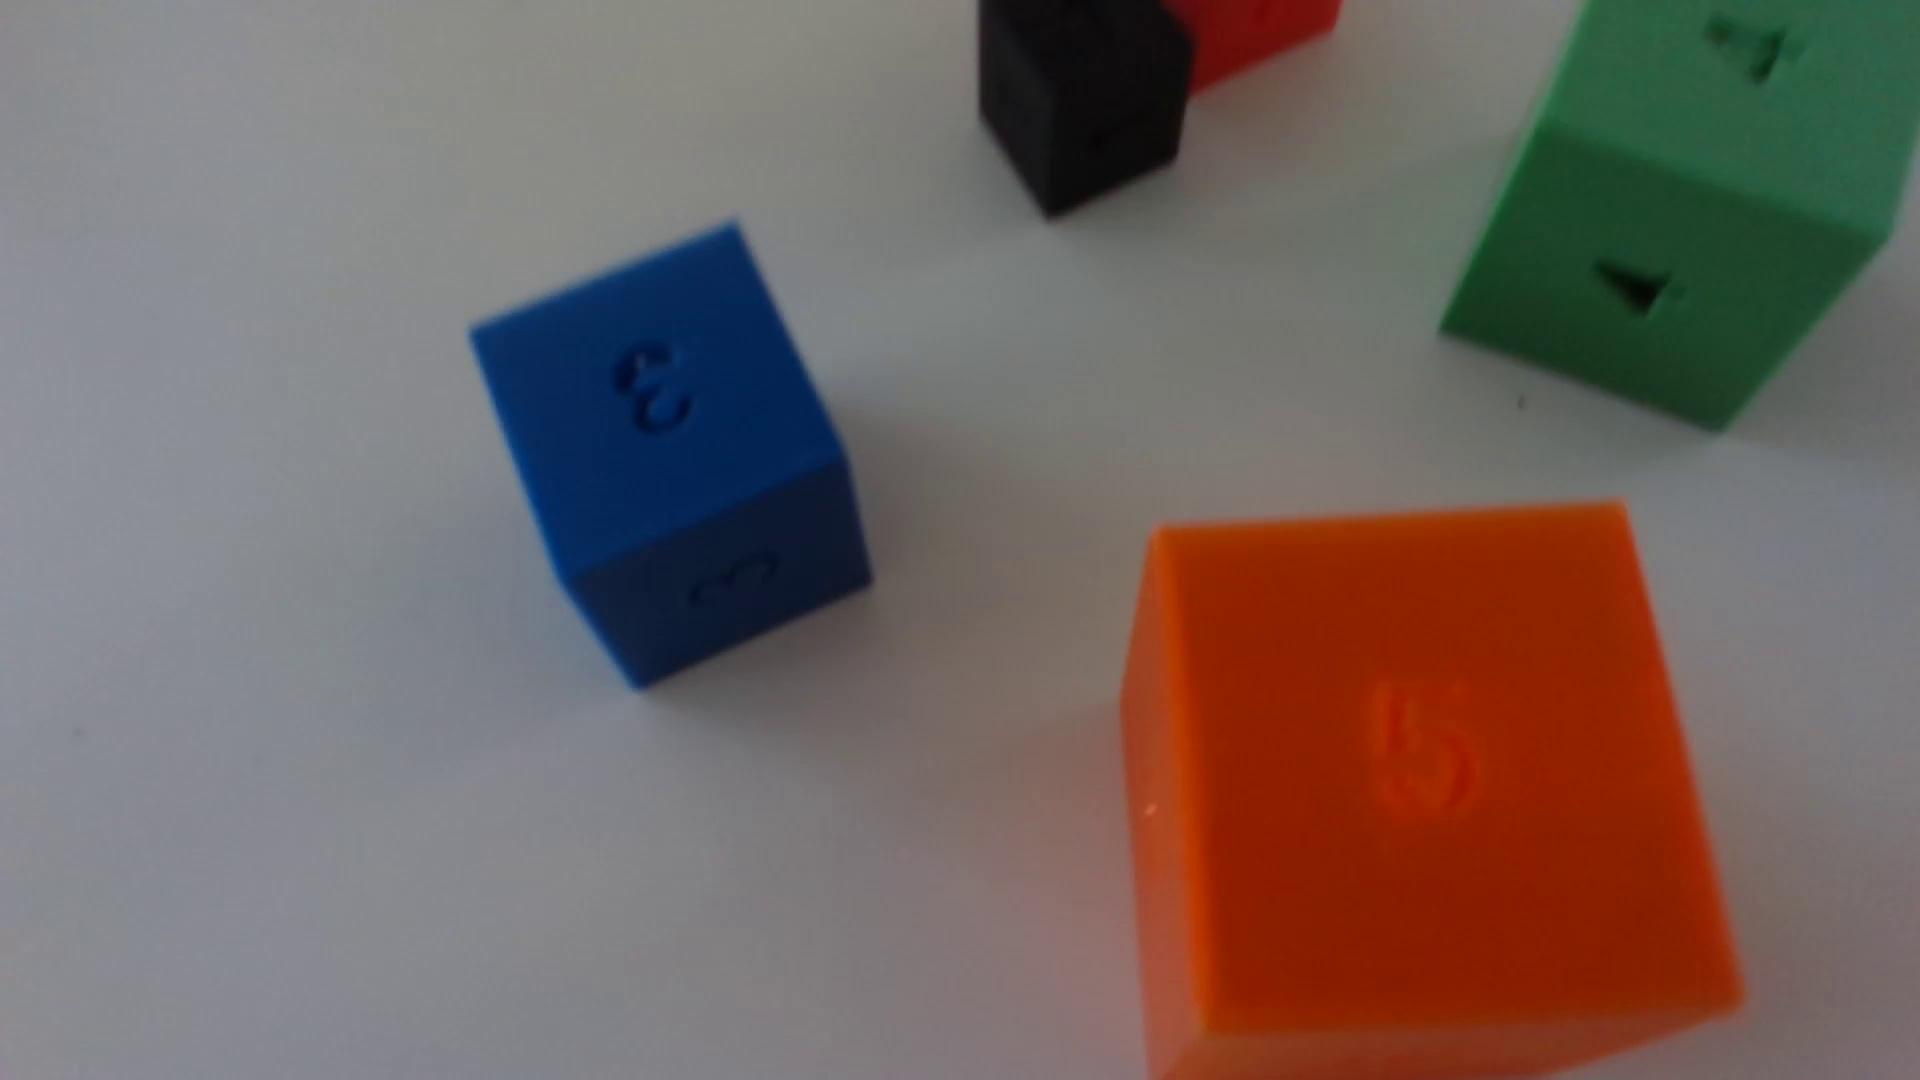black: (977, 0, 1193, 219)
blue: (471, 225, 872, 688)
green: (1441, 0, 1920, 431)
orange: (1121, 505, 1742, 1080)
red: (1167, 0, 1342, 94)
